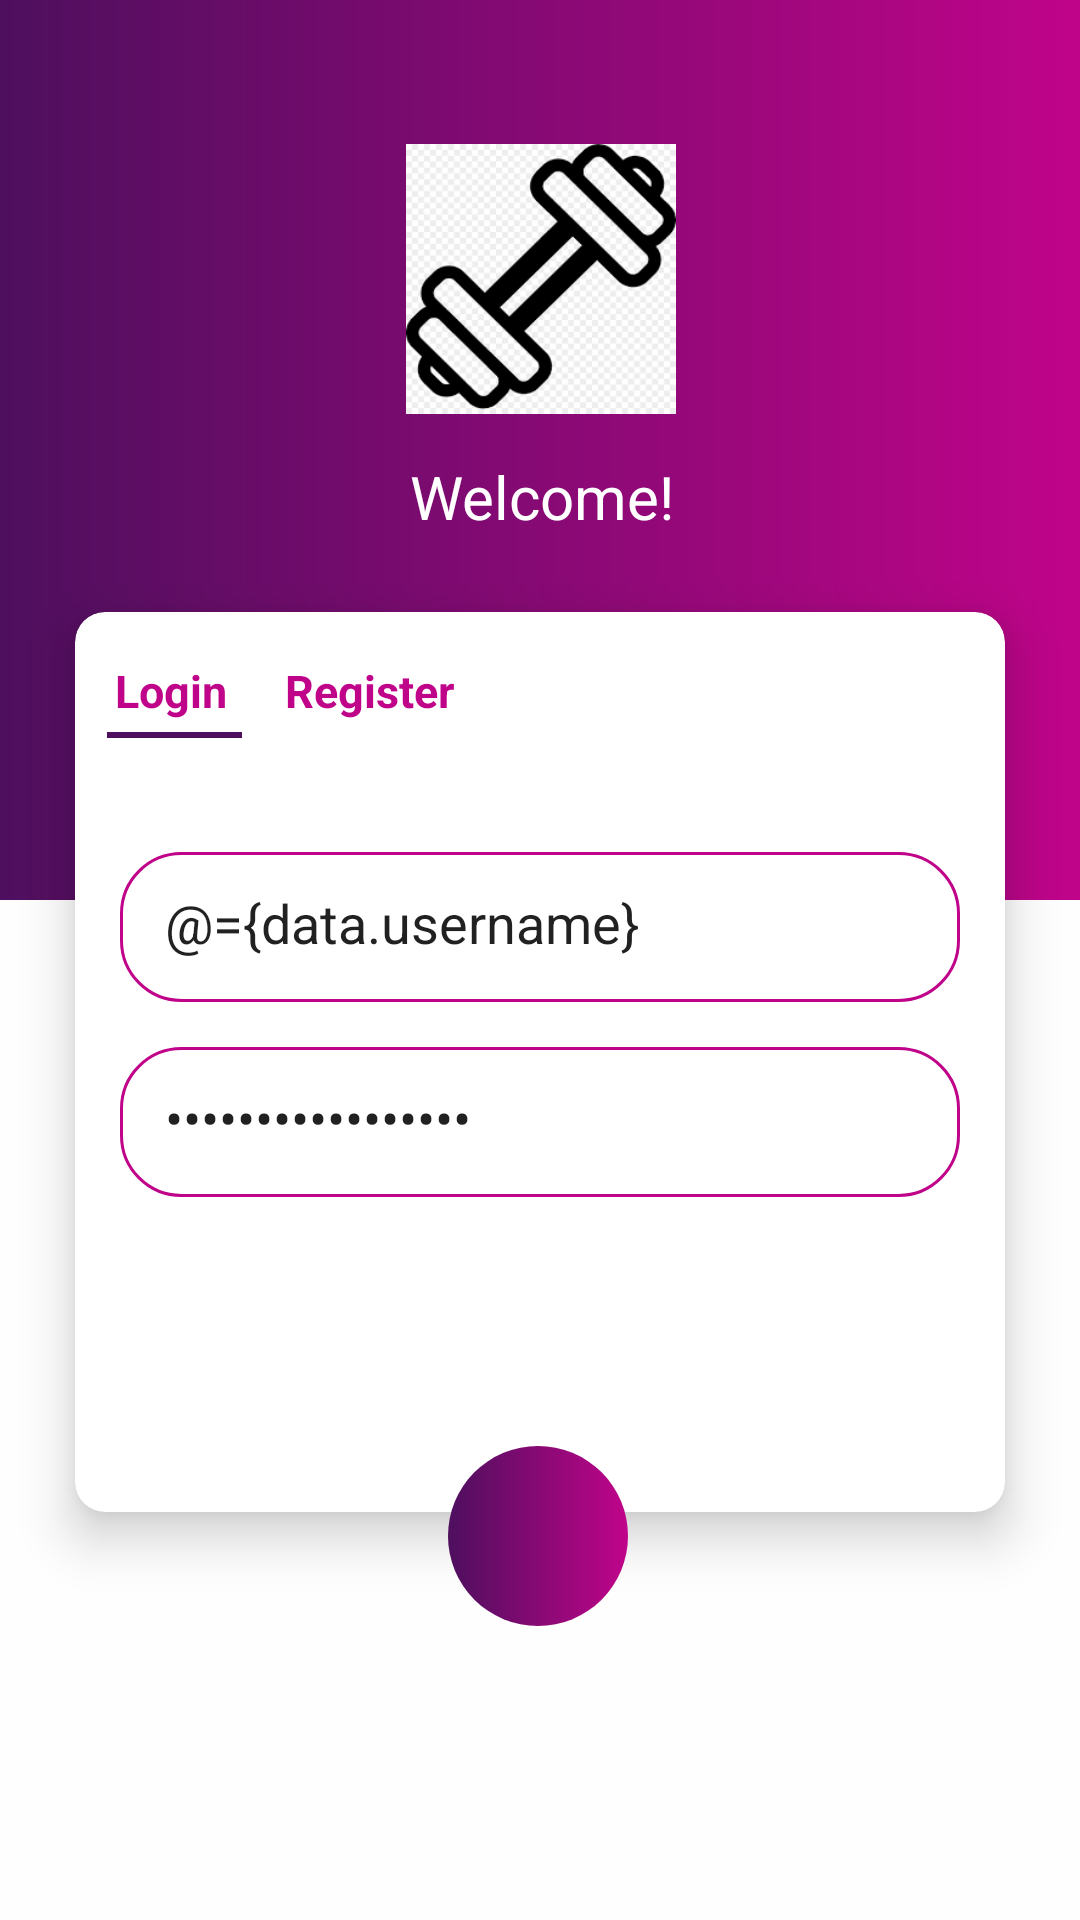

Icon click points for this 1080 x 1920 phone screenshot, format (x,y):
fitness: (541,279)
